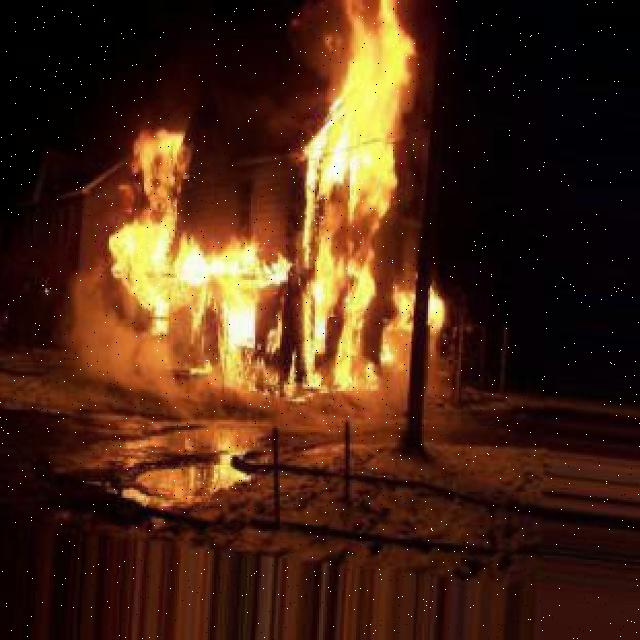fire: (292, 0, 410, 395), (105, 122, 286, 298), (183, 298, 286, 399), (395, 278, 449, 331)
smoke: (45, 298, 183, 416), (399, 336, 457, 432), (301, 389, 397, 446)
